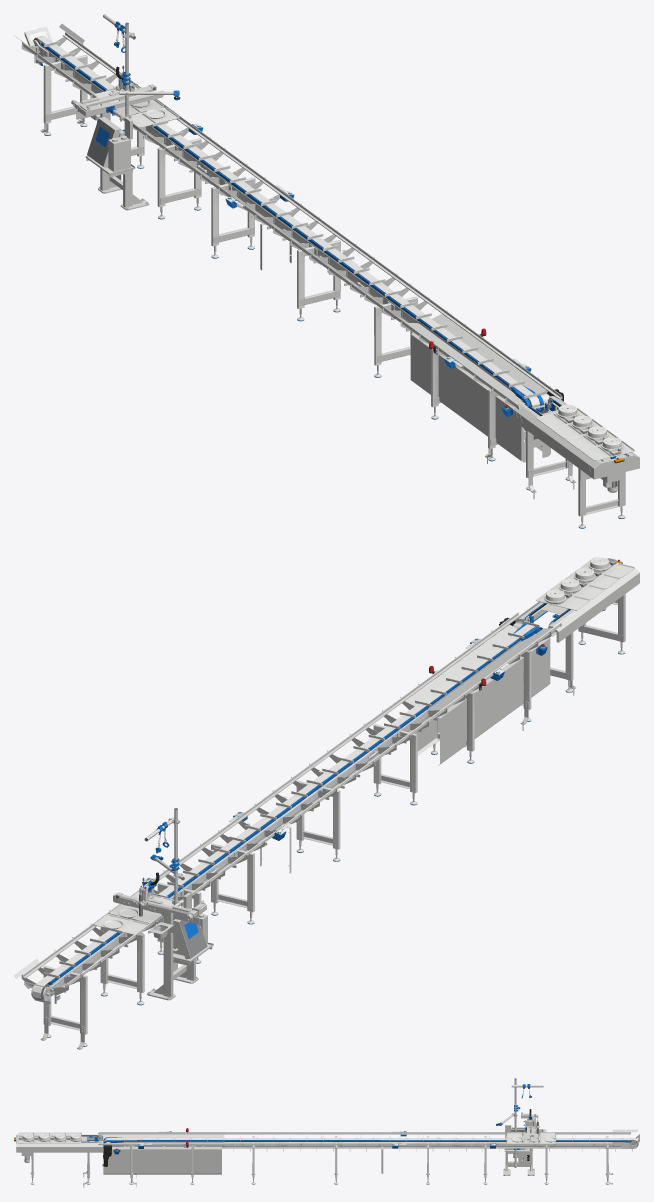
The model's file is Drucker_prospekt.glb.
The picture shows the model from 3 angles, top to bottom: view 1: azimuth 30°, elevation 25°; view 2: azimuth 150°, elevation 25°; view 3: azimuth 270°, elevation 25°; orthographic projection. The views are drawn at different scales.
Parts seen in each view (by area): view 1: Edelstahl, Weiss, Blau; view 2: Edelstahl, Weiss, Blau; view 3: Weiss, Edelstahl, Blau, Schwarz, Druckkopf.
Part boxes in pixels (<box>): Edelstahl: <box>14,14,639,527</box>; Weiss: <box>23,32,639,492</box>; Blau: <box>40,21,627,528</box>; Edelstahl: <box>14,568,639,1049</box>; Weiss: <box>22,557,634,1034</box>; Blau: <box>47,603,624,1046</box>; Weiss: <box>16,1131,638,1178</box>; Edelstahl: <box>14,1079,639,1187</box>; Blau: <box>31,1084,628,1184</box>; Schwarz: <box>14,1124,529,1166</box>; Druckkopf: <box>523,1109,539,1133</box>.
Bounding box in the file's own units: 1.15 × 2.21 × 12.82.
Materials: 16 (9 with a texture image).
